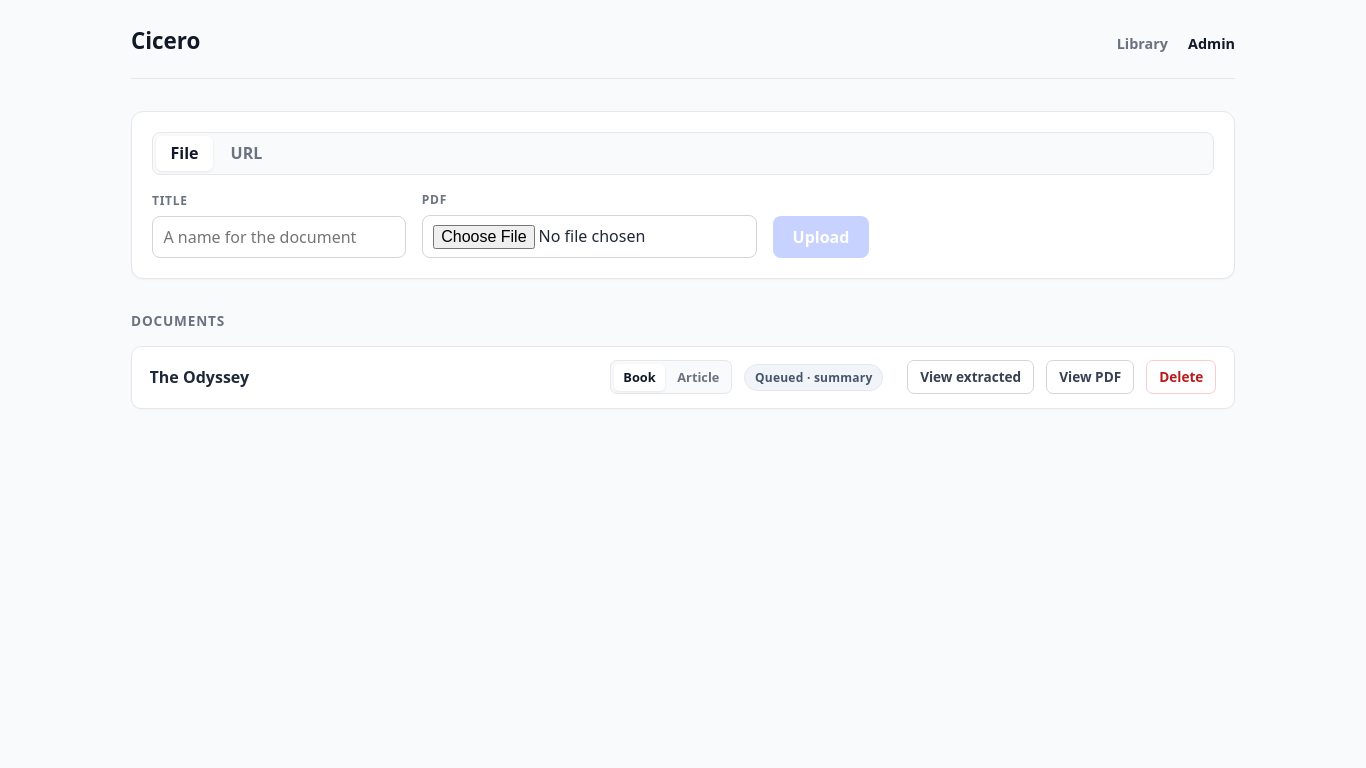
Test: AdminPage › opens the extracted text for an extracted document
Expected: the text "The Odyssey" is shown, top-left (150, 366), bottom-right (249, 388)
What coordinates should you click on to do the following:
click the button "View extracted"
I would click on:
 (971, 377)
Its box is top-left (907, 360), bottom-right (1034, 394).
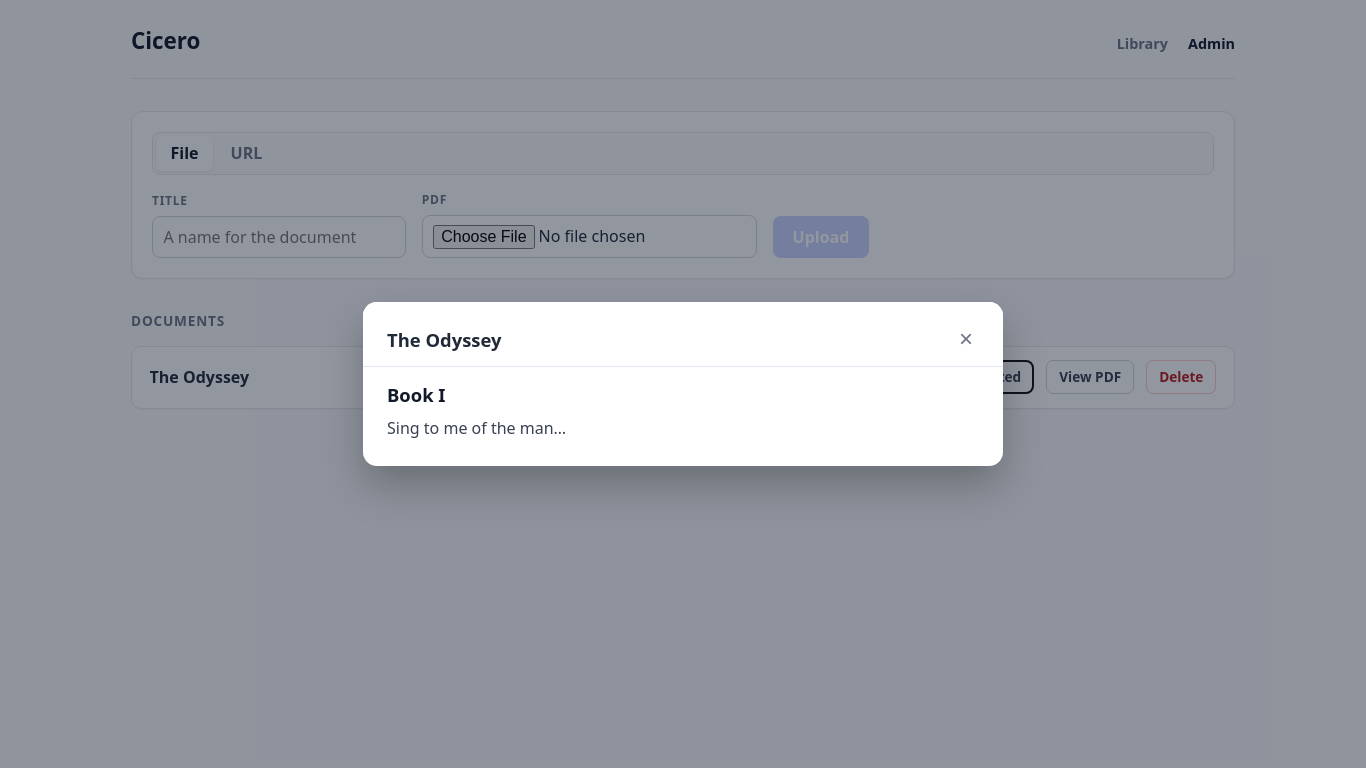
Now the heading "Book I" is shown, box top-left (387, 382), bottom-right (446, 407)
